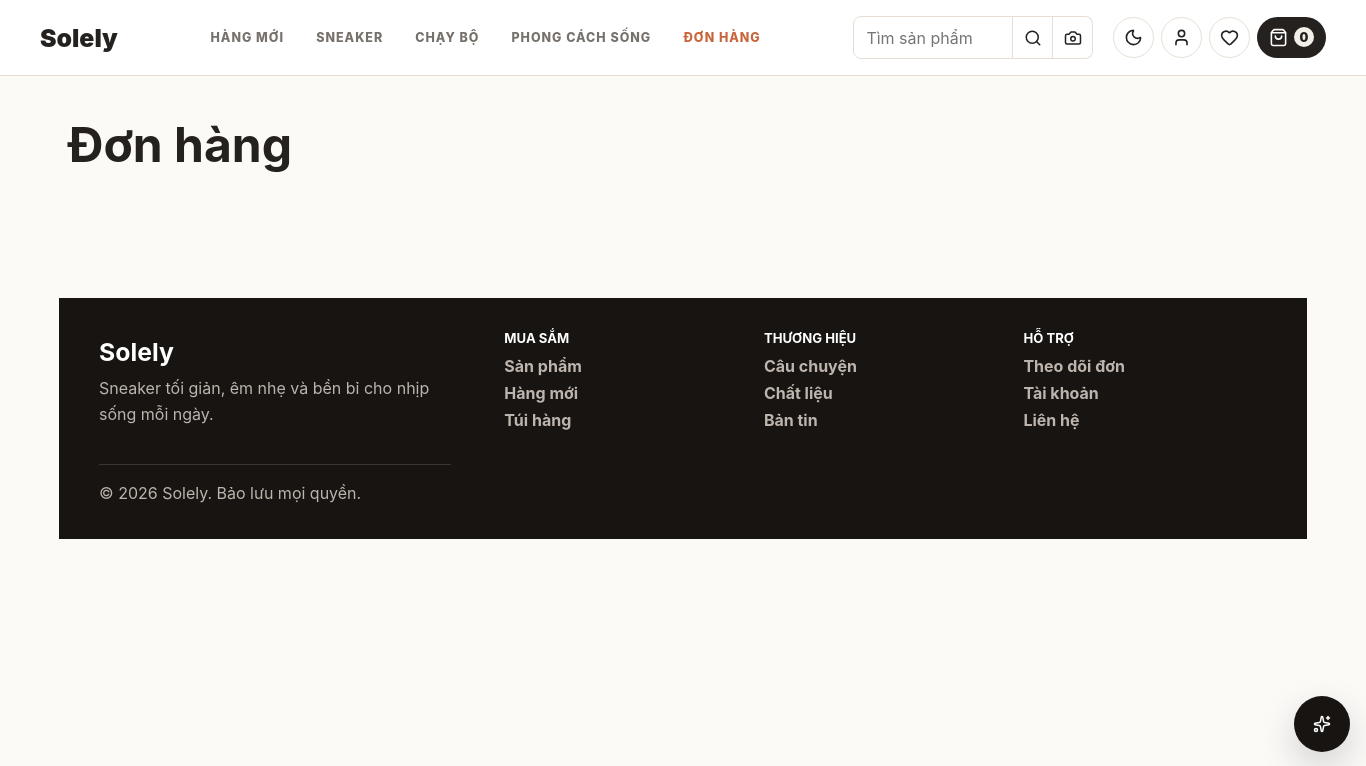
Test: customer shopping flow › searches from another customer page and reads the query on the catalog
Check: the heading "Đơn hàng" is shown, box [67,115,292,174]
Type "  Court Classic  " into the search field named "Tìm kiếm sản phẩm" at (933, 38), box [853,16,1013,59]
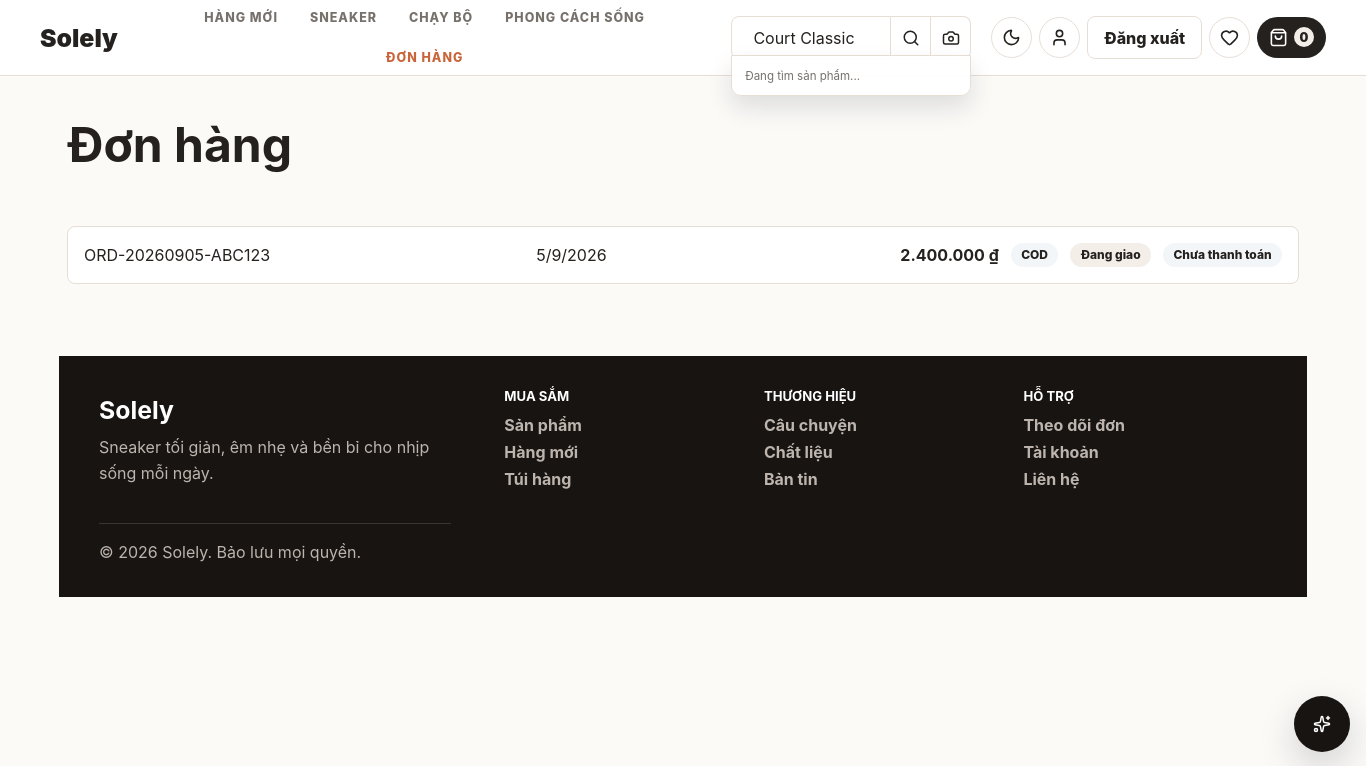
Submit the form named "Tìm kiếm sản phẩm toàn cửa hàng", box [731,16,971,59]
(page scrolled)
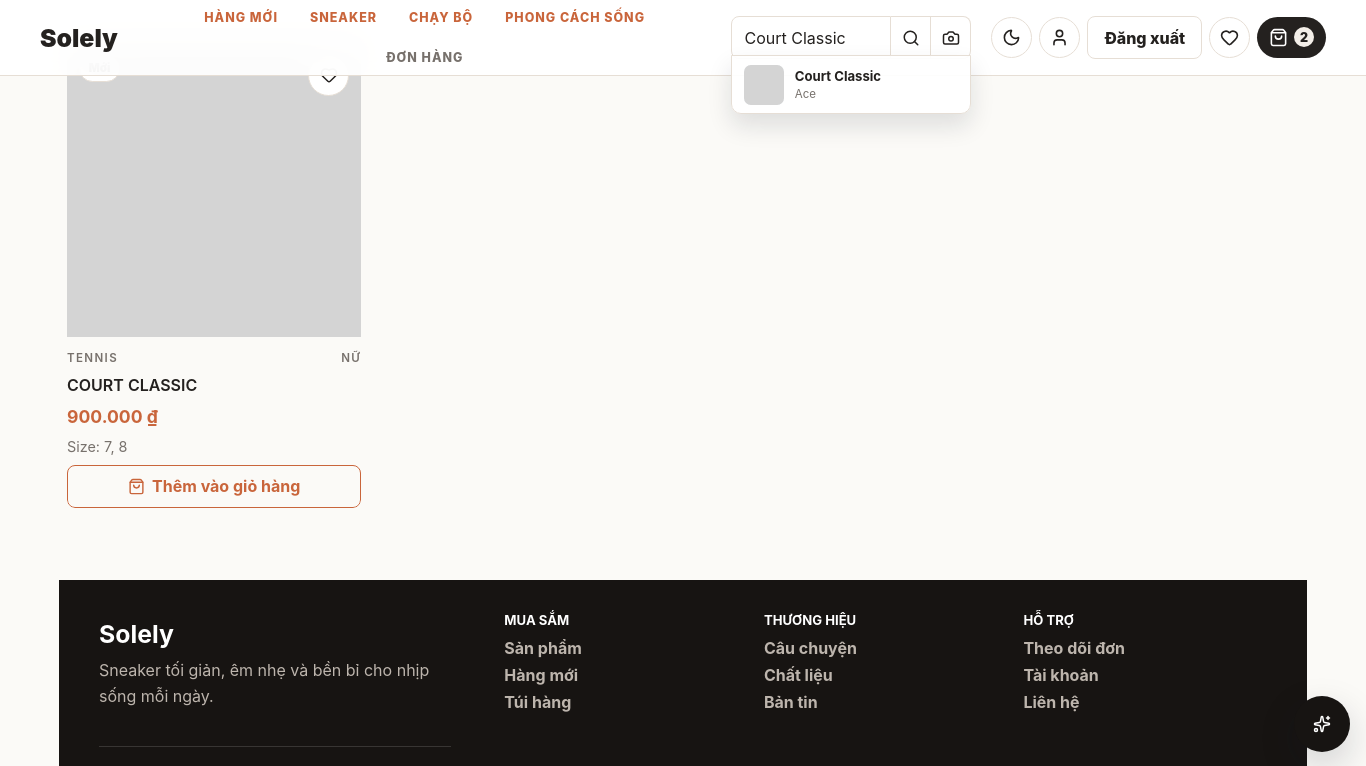
Check: the heading "Court Classic" is shown, box [67,375,197,395]
